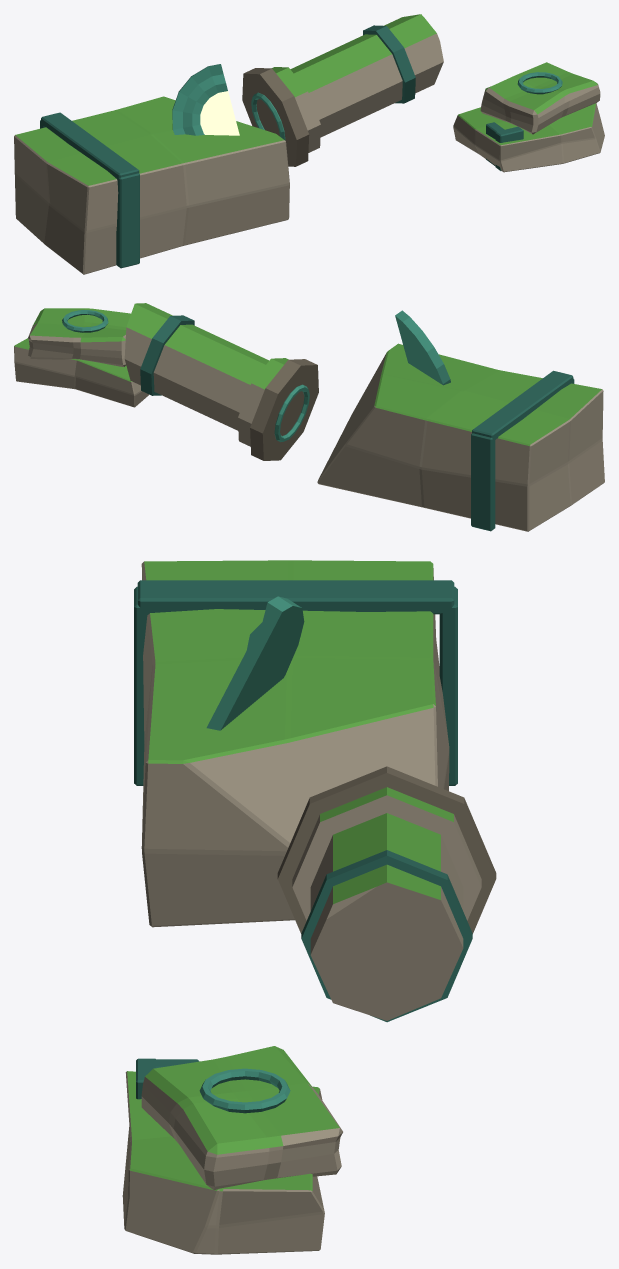
The model's file is sky_debris.glb.
3 views of the same model, one above another, from view 1: azimuth 30°, elevation 25°; view 2: azimuth 150°, elevation 25°; view 3: azimuth 270°, elevation 25° (orthographic). The views are drawn at different scales.
Visible parts, largest first — view 1: Debris_A, Debris_B, Debris_C; view 2: Debris_A, Debris_B, Debris_C; view 3: Debris_A, Debris_B, Debris_C.
Boxes of the visible parts, x1=… form: Debris_A: x1=14, y1=64, x2=289, y2=274; Debris_B: x1=242, y1=14, x2=443, y2=166; Debris_C: x1=453, y1=62, x2=604, y2=172; Debris_A: x1=317, y1=310, x2=604, y2=531; Debris_B: x1=124, y1=303, x2=318, y2=460; Debris_C: x1=14, y1=308, x2=149, y2=407; Debris_A: x1=134, y1=560, x2=457, y2=927; Debris_B: x1=277, y1=766, x2=496, y2=1022; Debris_C: x1=122, y1=1046, x2=342, y2=1254.
Bounding box in the file's own units: 6.81 × 1.8 × 2.05.
